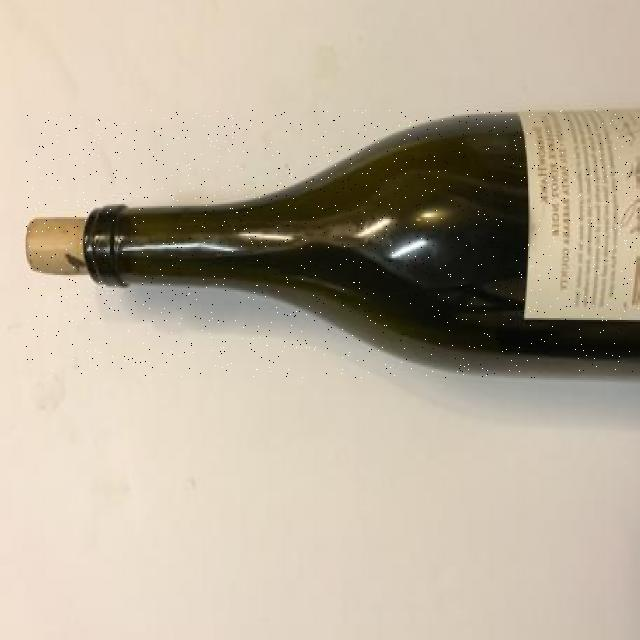glass: (26, 110, 639, 378)
